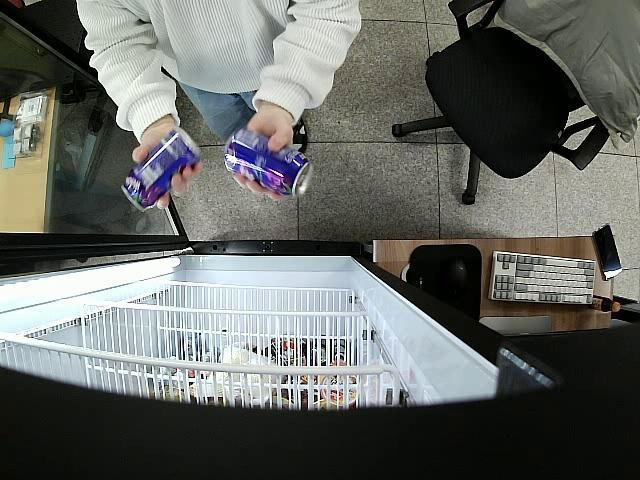14_welchsGrape: (122, 127, 199, 214), (224, 126, 312, 198)
